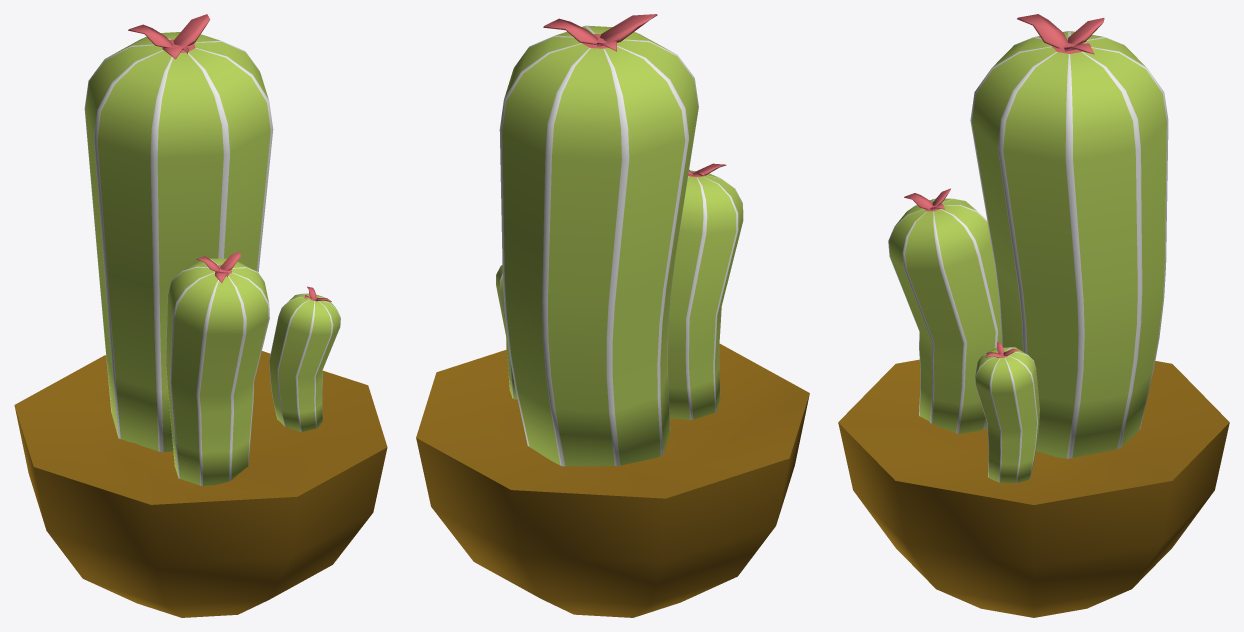
The model's file is Cactus.fbx.
3 views of the same model, side by side, from view 1: azimuth 30°, elevation 25°; view 2: azimuth 150°, elevation 25°; view 3: azimuth 270°, elevation 25° (orthographic). The views are drawn at different scales.
Parts seen in each view (by area): view 1: Cactus; view 2: Cactus; view 3: Cactus.
Boxes of the visible parts, bbox=[...] form: Cactus: bbox=[14, 14, 387, 617]; Cactus: bbox=[416, 14, 809, 617]; Cactus: bbox=[838, 14, 1229, 617].
Bounding box in the file's own units: 370 × 592 × 370.
